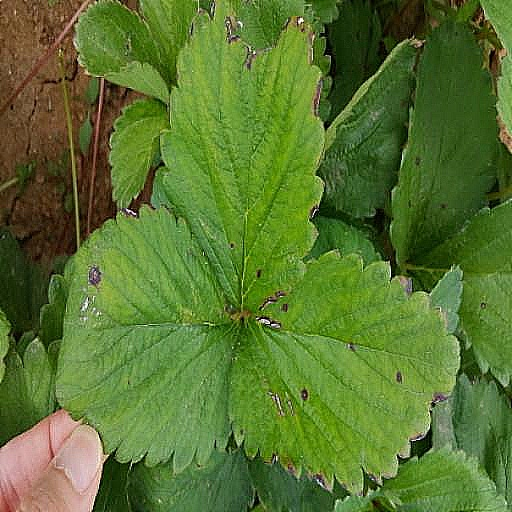Leaf Spot: (225, 15, 461, 263), (150, 194, 326, 511), (55, 35, 241, 309), (387, 246, 500, 494), (403, 126, 511, 314)
